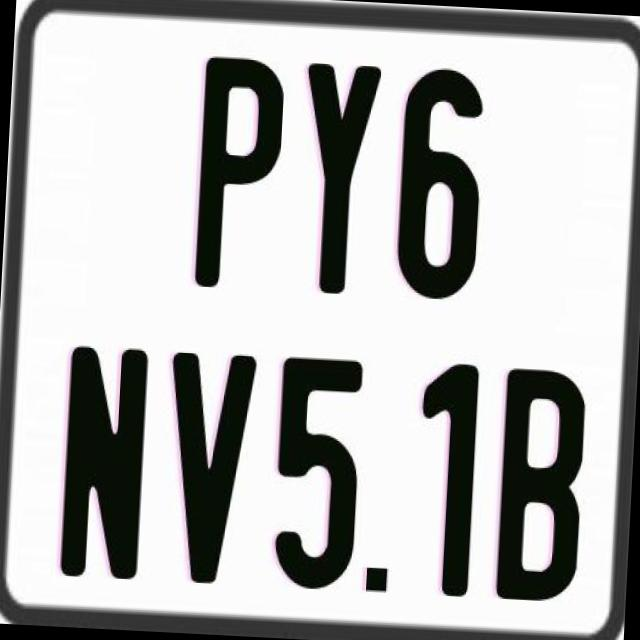1: (411, 360, 478, 596)
5: (267, 355, 362, 591)
6: (394, 68, 490, 301)
B: (493, 365, 591, 609)
N: (56, 341, 150, 578)
P: (194, 52, 292, 290)
V: (160, 352, 264, 586)
Y: (292, 60, 379, 298)
